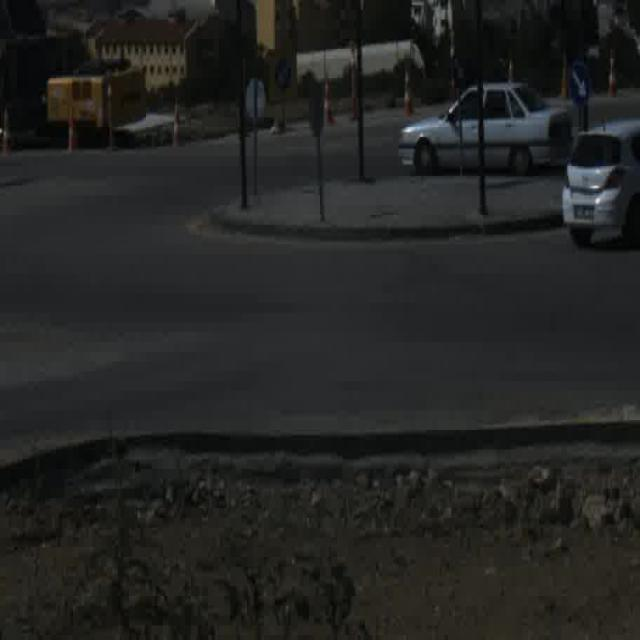Car: (399, 78, 572, 178), (560, 118, 640, 245)
